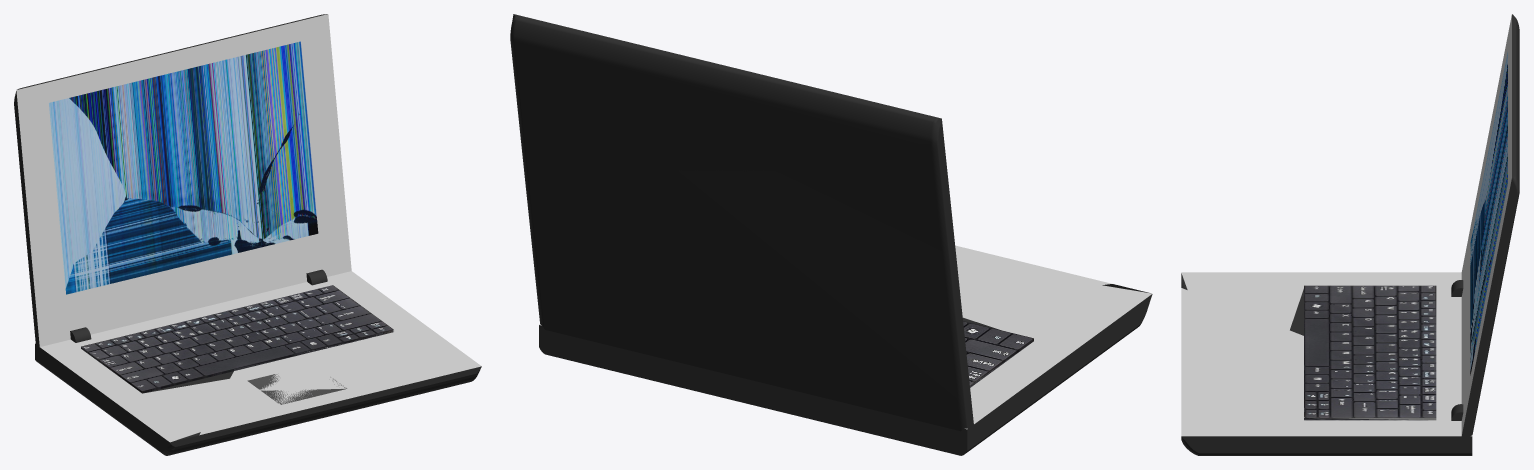
Rendered from Laptop.fbx.
The picture shows the model from 3 angles, left to right: view 1: azimuth 30°, elevation 25°; view 2: azimuth 150°, elevation 25°; view 3: azimuth 270°, elevation 25°; orthographic projection. The views are drawn at different scales.
Parts seen in each view (by area): view 1: pasted__pCube1, pCube1; view 2: pasted__pCube1, pCube1; view 3: pCube1, pasted__pCube1.
Boxes of the visible parts, left/top/right/bottom form: pasted__pCube1: left=14, top=14, right=351, bottom=347; pCube1: left=35, top=271, right=481, bottom=455; pasted__pCube1: left=510, top=14, right=973, bottom=431; pCube1: left=539, top=245, right=1152, bottom=455; pCube1: left=1181, top=272, right=1472, bottom=455; pasted__pCube1: left=1461, top=14, right=1519, bottom=438.
Bounding box in the file's own units: 2 × 1.59 × 1.74.
Materials: 8 (3 with a texture image).
